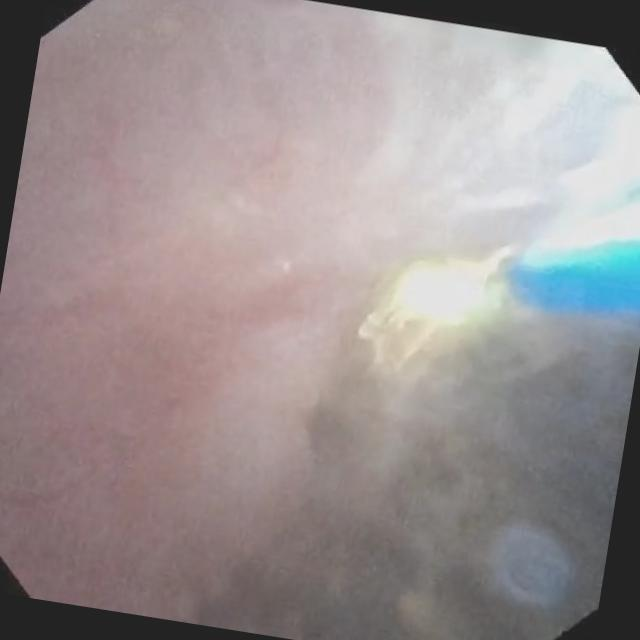stone-new: (202, 247, 640, 640)
